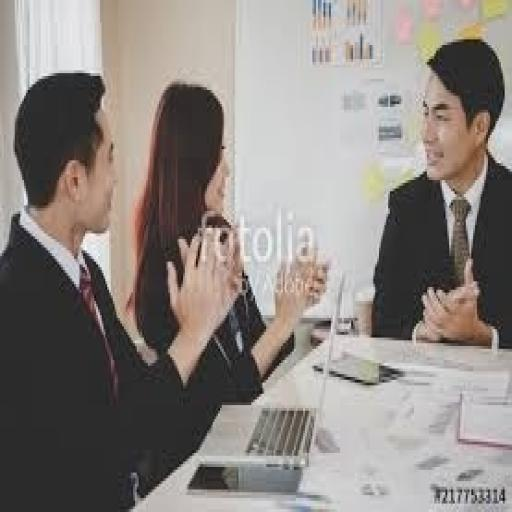clapping: (0, 36, 210, 512), (118, 79, 320, 512), (370, 34, 510, 349)
